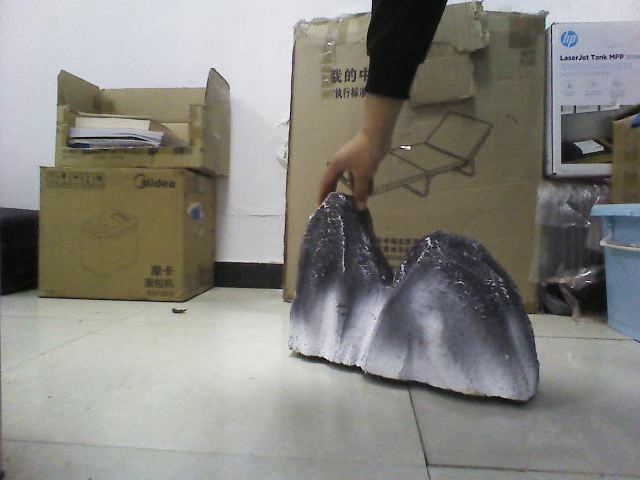rock: (286, 189, 546, 402)
